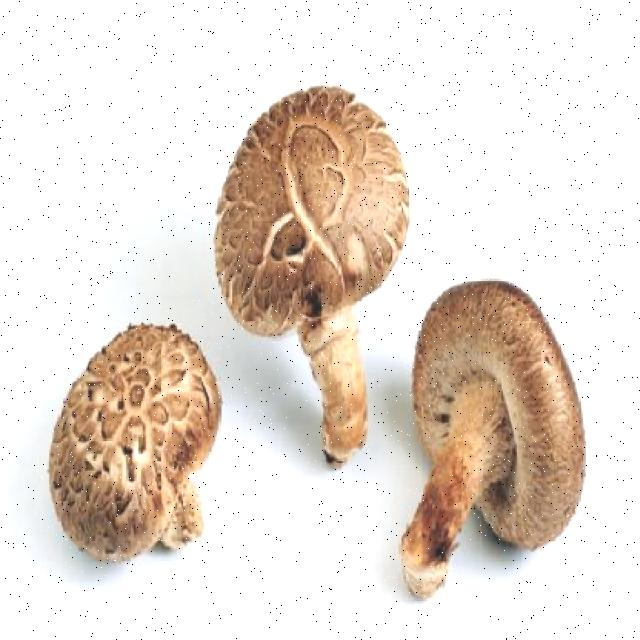Mushroom: (185, 30, 422, 475), (400, 265, 594, 607), (40, 320, 218, 580)
